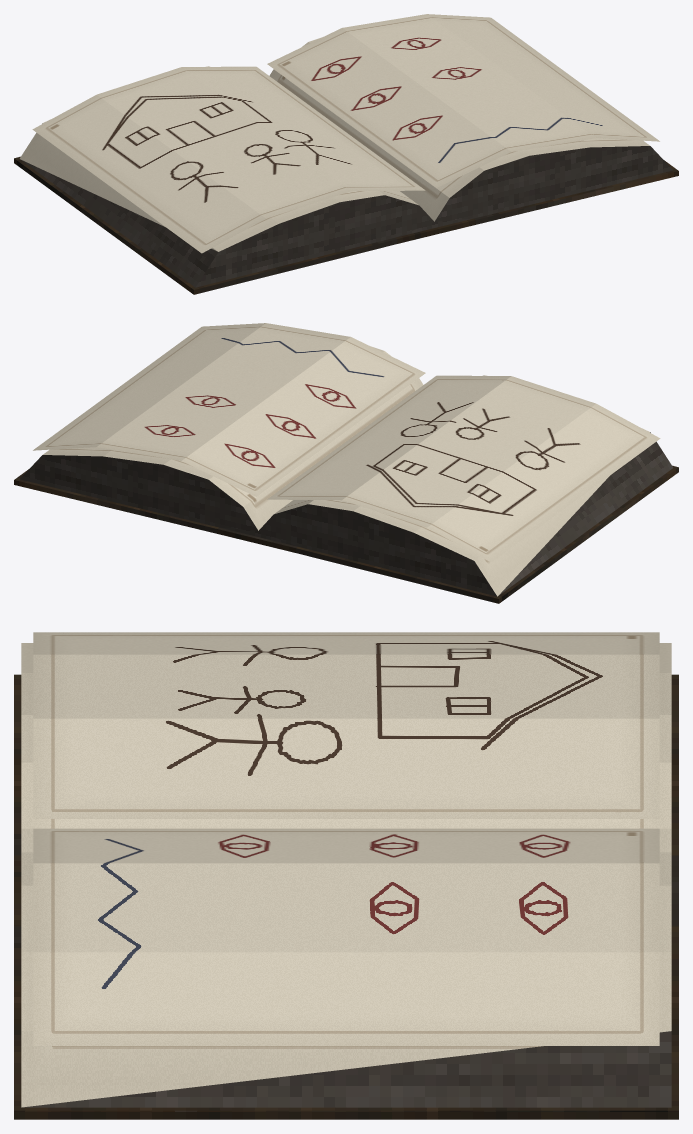
Rendered from blender_ghost_writing_book_1_open_child_drawings.glb.
3 renders of one model, top to bottom at view 1: azimuth 30°, elevation 25°; view 2: azimuth 150°, elevation 25°; view 3: azimuth 270°, elevation 25°, orthographic. The views are drawn at different scales.
Parts seen in each view (by area): view 1: blender_ghost_writing_book_1_open_child_drawings; view 2: blender_ghost_writing_book_1_open_child_drawings; view 3: blender_ghost_writing_book_1_open_child_drawings.
Boxes of the visible parts, bbox=[...] form: blender_ghost_writing_book_1_open_child_drawings: bbox=[14, 14, 678, 294]; blender_ghost_writing_book_1_open_child_drawings: bbox=[14, 323, 678, 603]; blender_ghost_writing_book_1_open_child_drawings: bbox=[14, 632, 678, 1119].
Size of the model in its own units: 0.37 by 0.044 by 0.2378.
2 materials, 2 textured.
